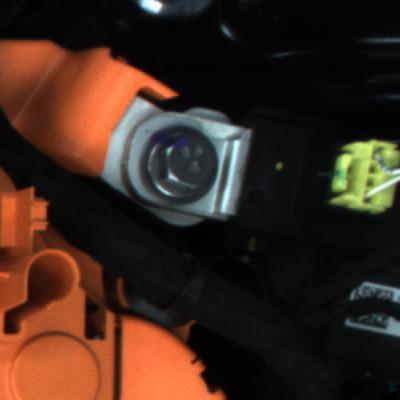nut_b: (131, 117, 228, 209)
